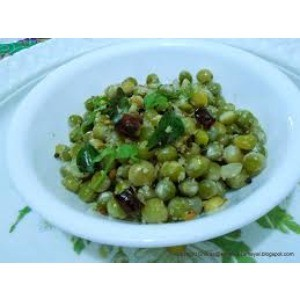green pea_brain food: (78, 89, 248, 193)
